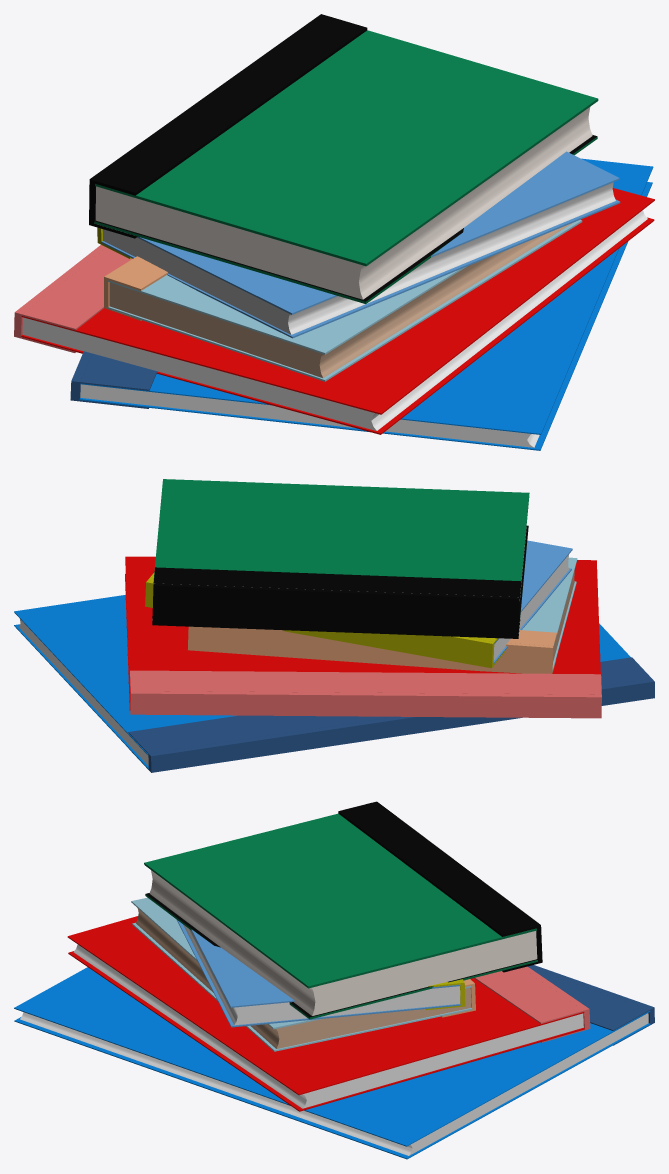
The model's file is Books.fbx.
The picture shows the model from 3 angles, top to bottom: view 1: azimuth 30°, elevation 25°; view 2: azimuth 150°, elevation 25°; view 3: azimuth 270°, elevation 25°; orthographic projection. The views are drawn at different scales.
Visible parts, largest first — view 1: polySurface11, polySurface38, polySurface45, polySurface24, polySurface31; view 2: polySurface11, polySurface38, polySurface45, polySurface31, polySurface24; view 3: polySurface11, polySurface45, polySurface38, polySurface24, polySurface31.
Part boxes in pixels (left/top/right/bottom): polySurface11: left=89, top=14, right=598, bottom=303; polySurface38: left=14, top=188, right=654, bottom=434; polySurface45: left=70, top=158, right=653, bottom=450; polySurface24: left=97, top=151, right=620, bottom=338; polySurface31: left=104, top=219, right=582, bottom=381; polySurface11: left=152, top=479, right=529, bottom=638; polySurface38: left=125, top=556, right=601, bottom=718; polySurface45: left=14, top=595, right=654, bottom=772; polySurface31: left=188, top=557, right=577, bottom=673; polySurface24: left=145, top=540, right=572, bottom=668; polySurface11: left=144, top=801, right=542, bottom=1019; polySurface45: left=14, top=965, right=654, bottom=1159; polySurface38: left=67, top=916, right=590, bottom=1111; polySurface24: left=176, top=919, right=465, bottom=1027; polySurface31: left=131, top=897, right=475, bottom=1051.
Bounding box in the file's own units: 31.15 × 7.61 × 31.88.
